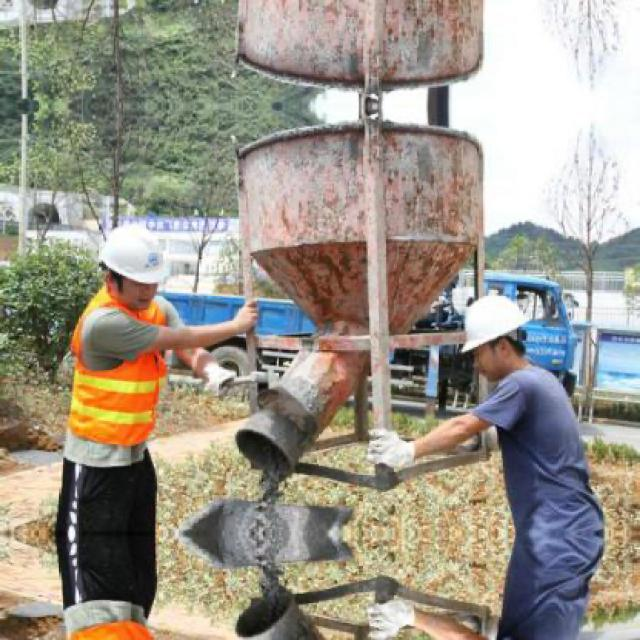helmet: (92, 216, 176, 310), (455, 288, 537, 381)
